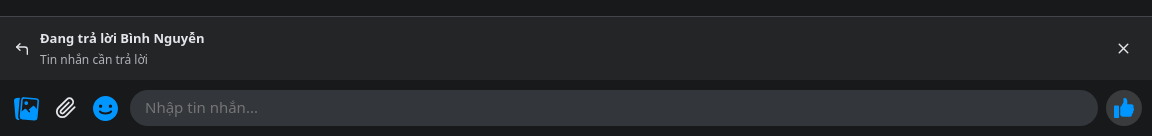
Test: reply composer quotes a chosen message, sends its ID and clears only on success
The image size is (1152, 136).
Later steps or results of the test are not shown.
expect the text "Tin nhắn cần trả lời" is shown: met, box 40,51 -> 148,68
Type "Câu trả lời của tôi" into the text box at [610, 108], box 143,97 -> 1078,119
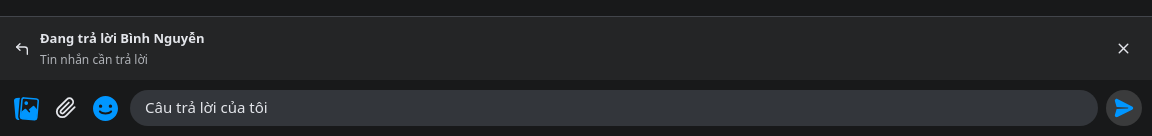
Click the button named "Gửi tin nhắn" at [1124, 108], box 1106,90 -> 1142,126
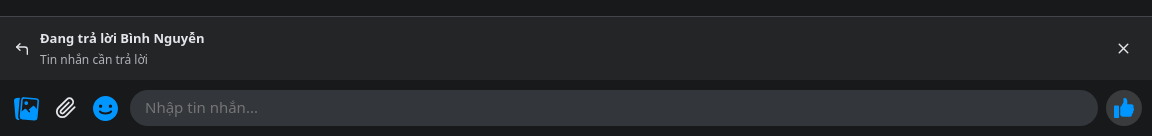
expect the text box is empty: met, box 143,97 -> 1078,119
